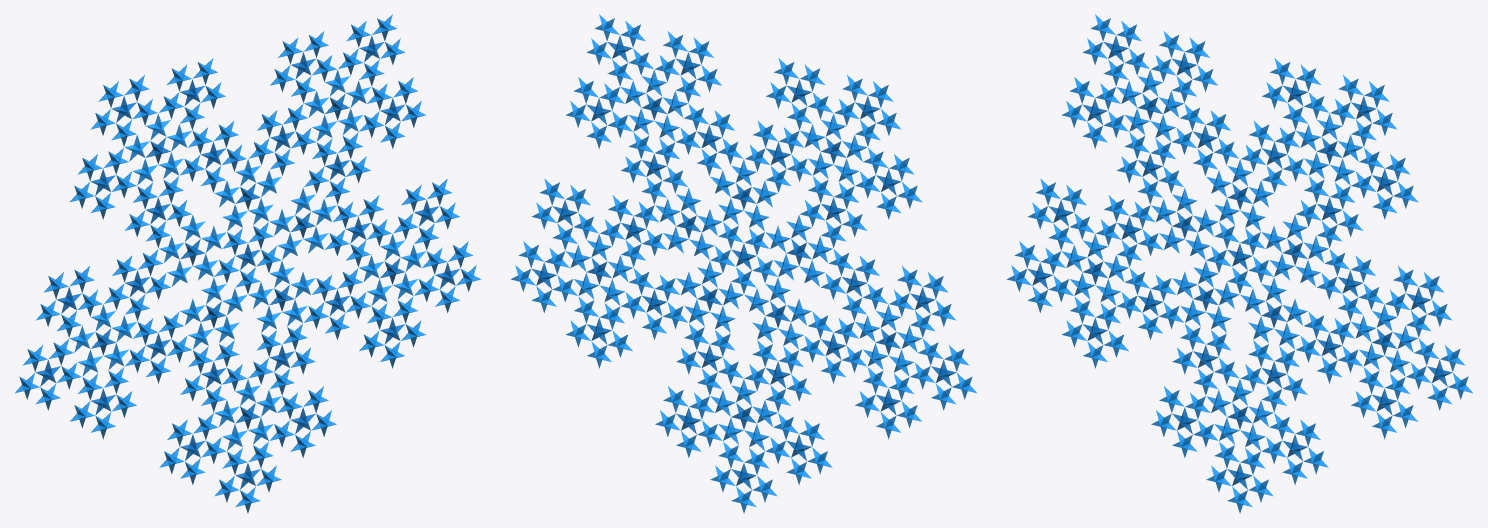
Rendered from fractalpentagrammicdipyramid3.glb.
The picture shows the model from 3 angles, left to right: view 1: azimuth 30°, elevation 25°; view 2: azimuth 150°, elevation 25°; view 3: azimuth 330°, elevation 25°; orthographic projection.
Bounding box in the file's own units: 11.63 × 11.04 × 0.3186.
